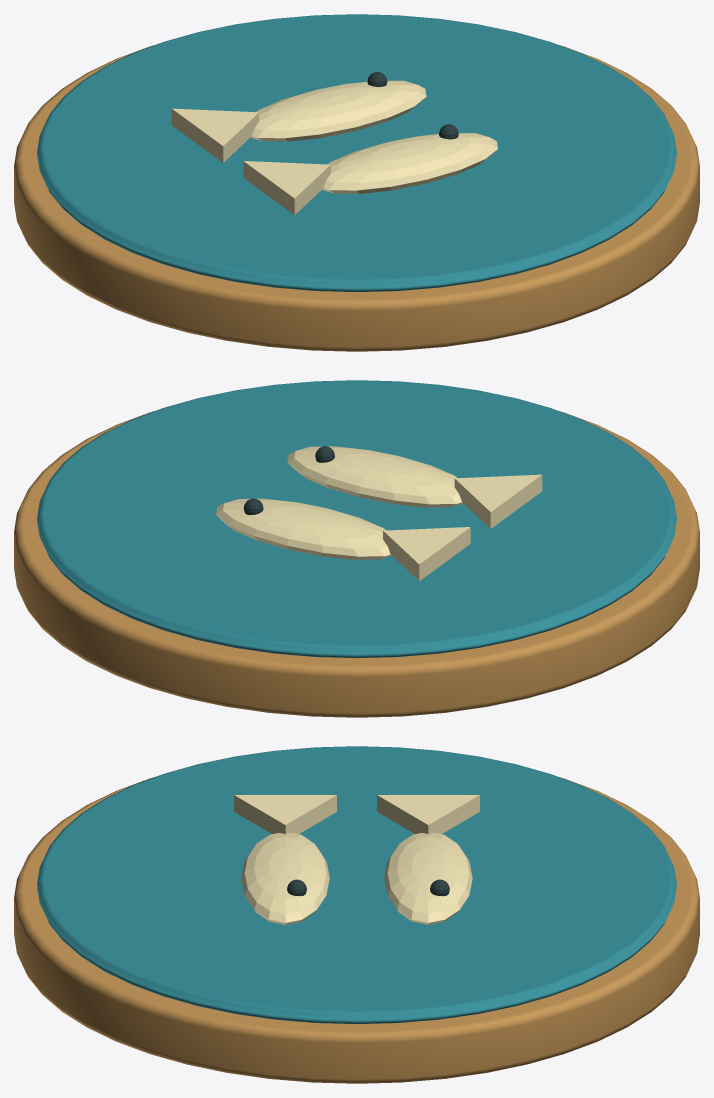
Rendered from fish-2.fbx.
The picture shows the model from 3 angles, top to bottom: view 1: azimuth 30°, elevation 25°; view 2: azimuth 150°, elevation 25°; view 3: azimuth 270°, elevation 25°; orthographic projection.
Visible parts, largest first — view 1: fish-2; view 2: fish-2; view 3: fish-2.
Part boxes in pixels (x1,y1,x2,y2): fish-2: (14,14,699,351); fish-2: (14,380,699,717); fish-2: (14,746,699,1083).
Bounding box in the file's own units: 2.4 × 0.355 × 2.4.
